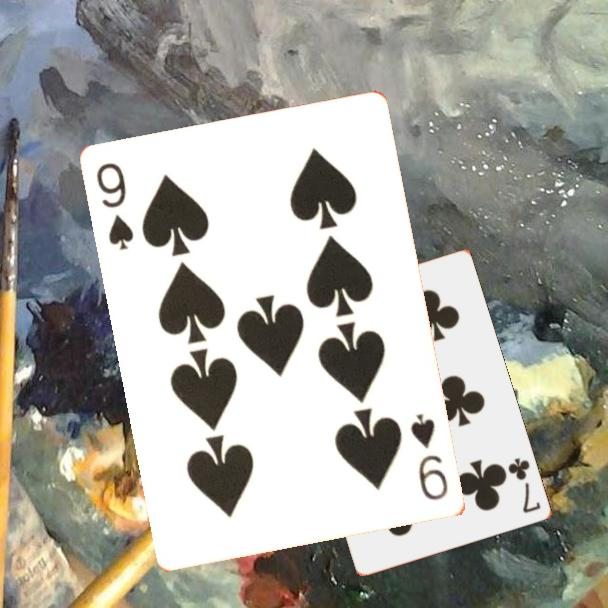c07: (504, 454, 543, 516)
s09: (407, 410, 452, 504), (93, 159, 137, 253)
